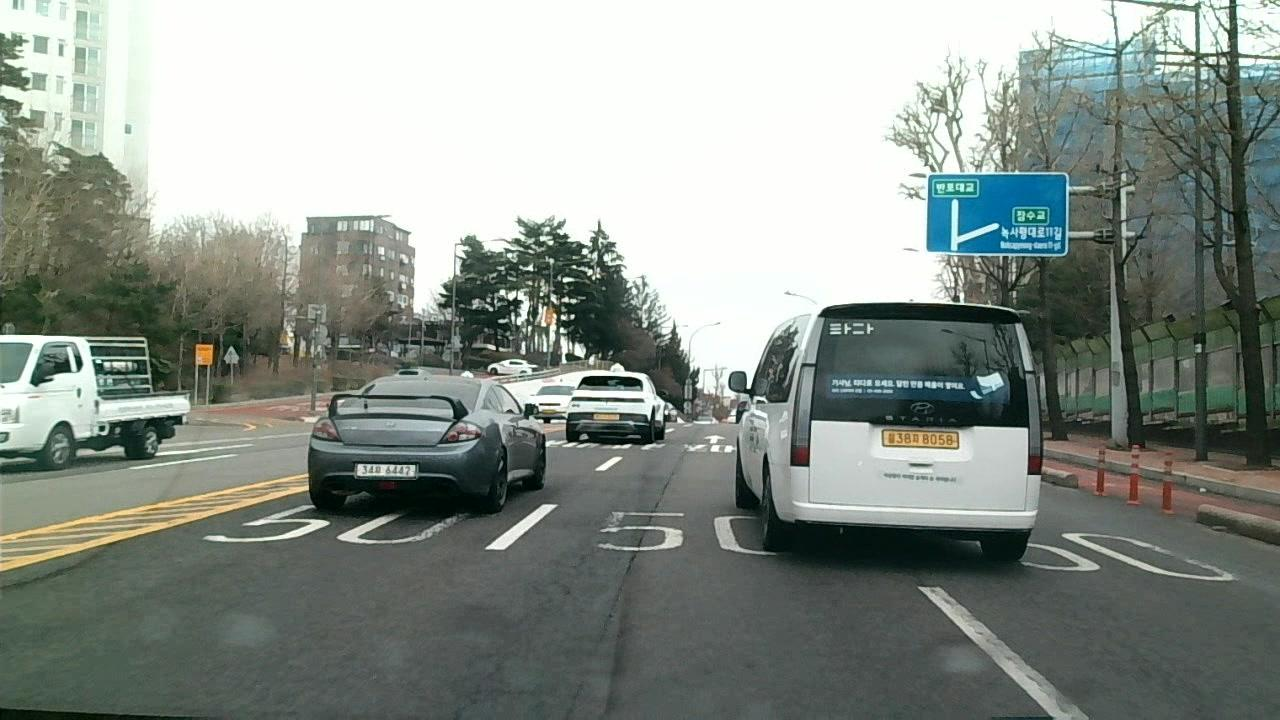banner: (559, 573, 627, 720), (624, 462, 683, 571)
